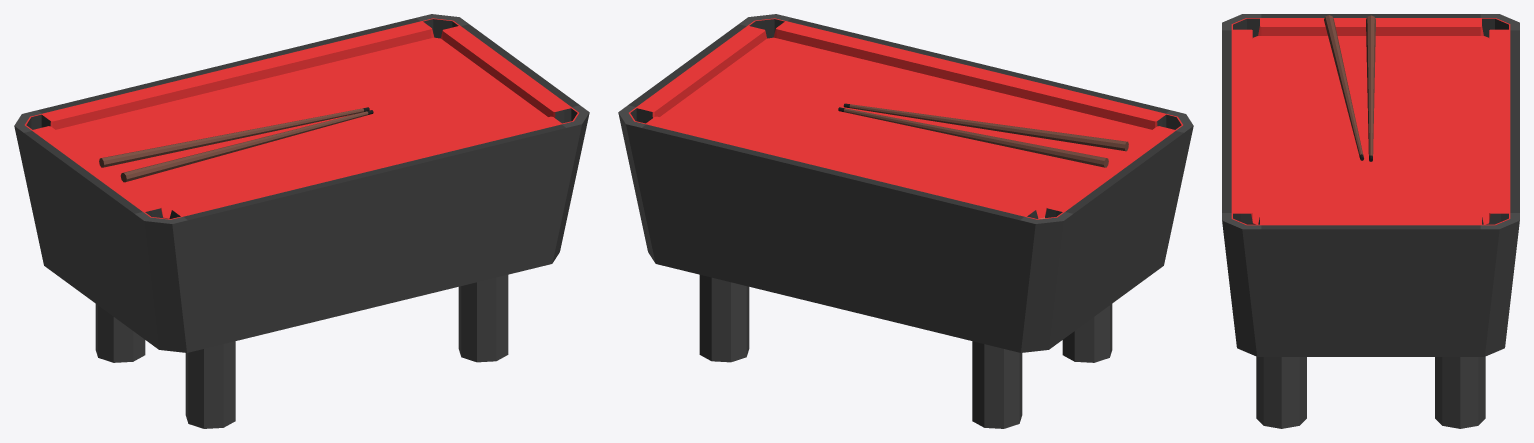
Rendered from BillarTable.fbx.
3 views of the same model, side by side, from view 1: azimuth 30°, elevation 25°; view 2: azimuth 150°, elevation 25°; view 3: azimuth 270°, elevation 25° (orthographic).
Parts seen in each view (by area): view 1: Billar_Table; view 2: Billar_Table; view 3: Billar_Table.
Part boxes in pixels (x1=…): Billar_Table: x1=14, y1=14, x2=589, y2=428; Billar_Table: x1=618, y1=14, x2=1193, y2=428; Billar_Table: x1=1222, y1=14, x2=1519, y2=428.
Size of the model in its own units: 200 by 104 by 117.
